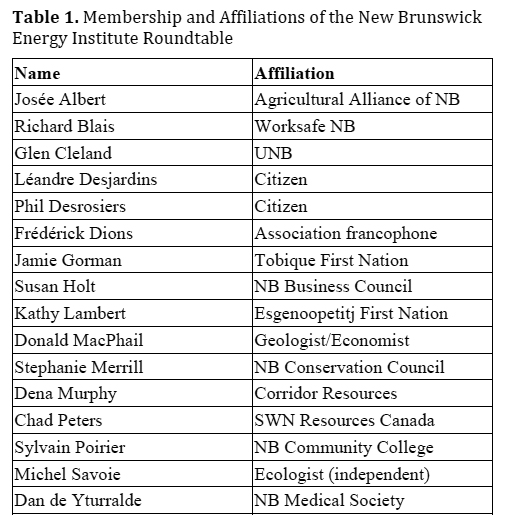fracking table: (6, 5, 496, 515)
